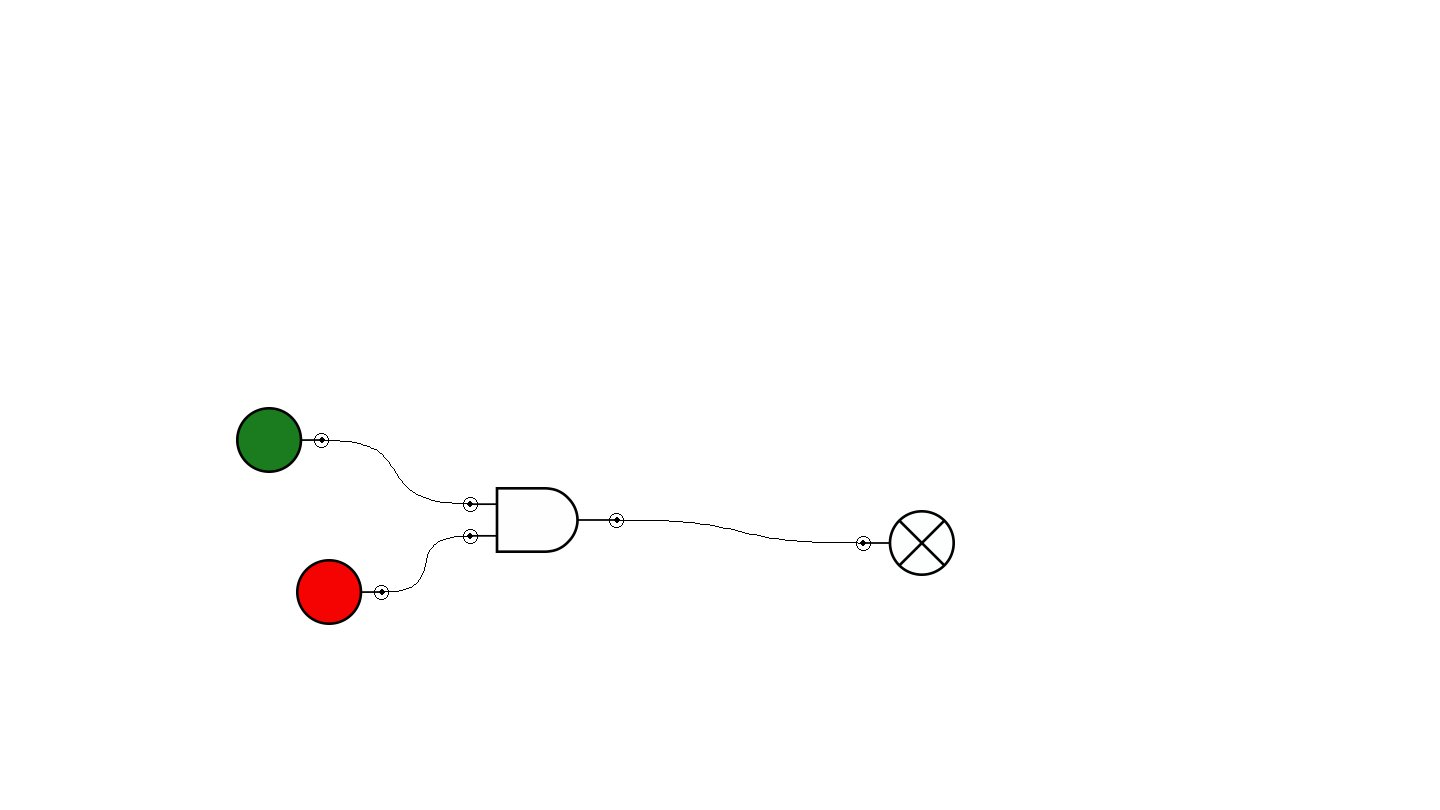and: (463, 487, 624, 553)
bulb: (856, 510, 955, 576)
switch_False: (296, 559, 389, 625)
switch_True: (236, 407, 329, 473)
